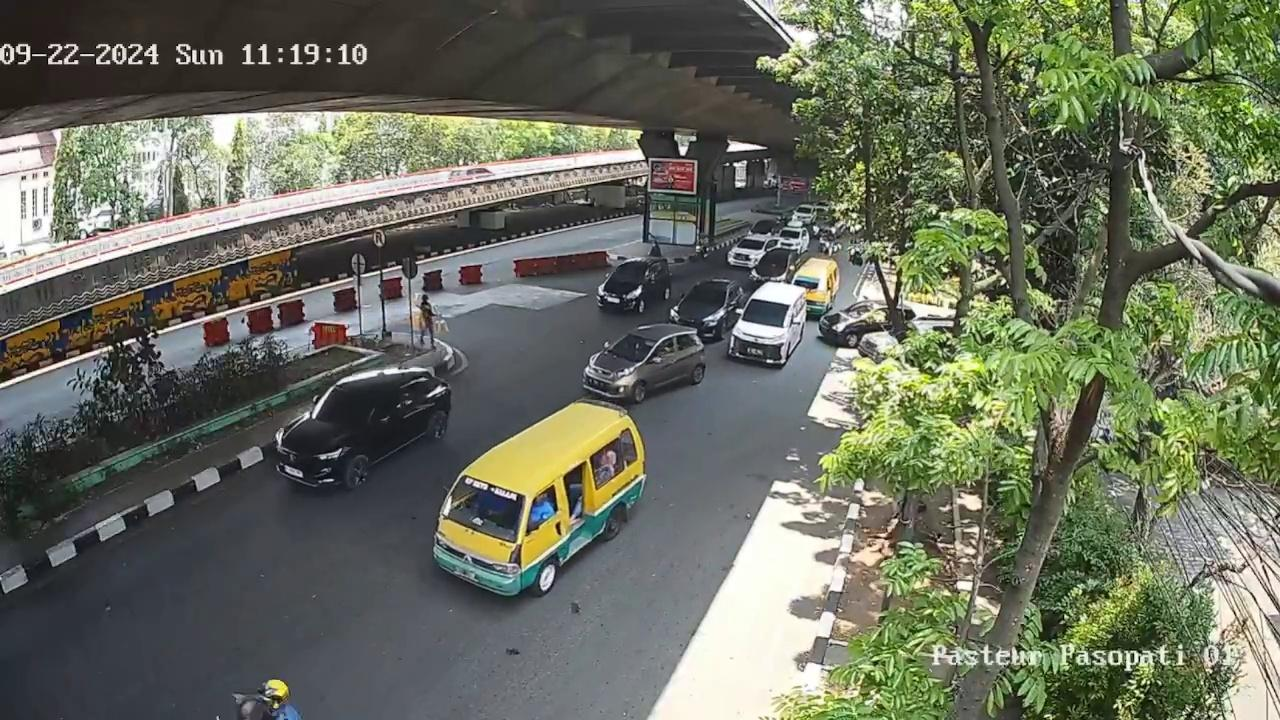tidak-pakai: (468, 489, 510, 518)
windshield: (433, 476, 526, 534), (309, 387, 369, 428), (738, 295, 791, 329), (609, 335, 656, 360), (682, 285, 726, 307), (793, 272, 828, 291), (609, 264, 642, 283), (737, 238, 764, 250)
